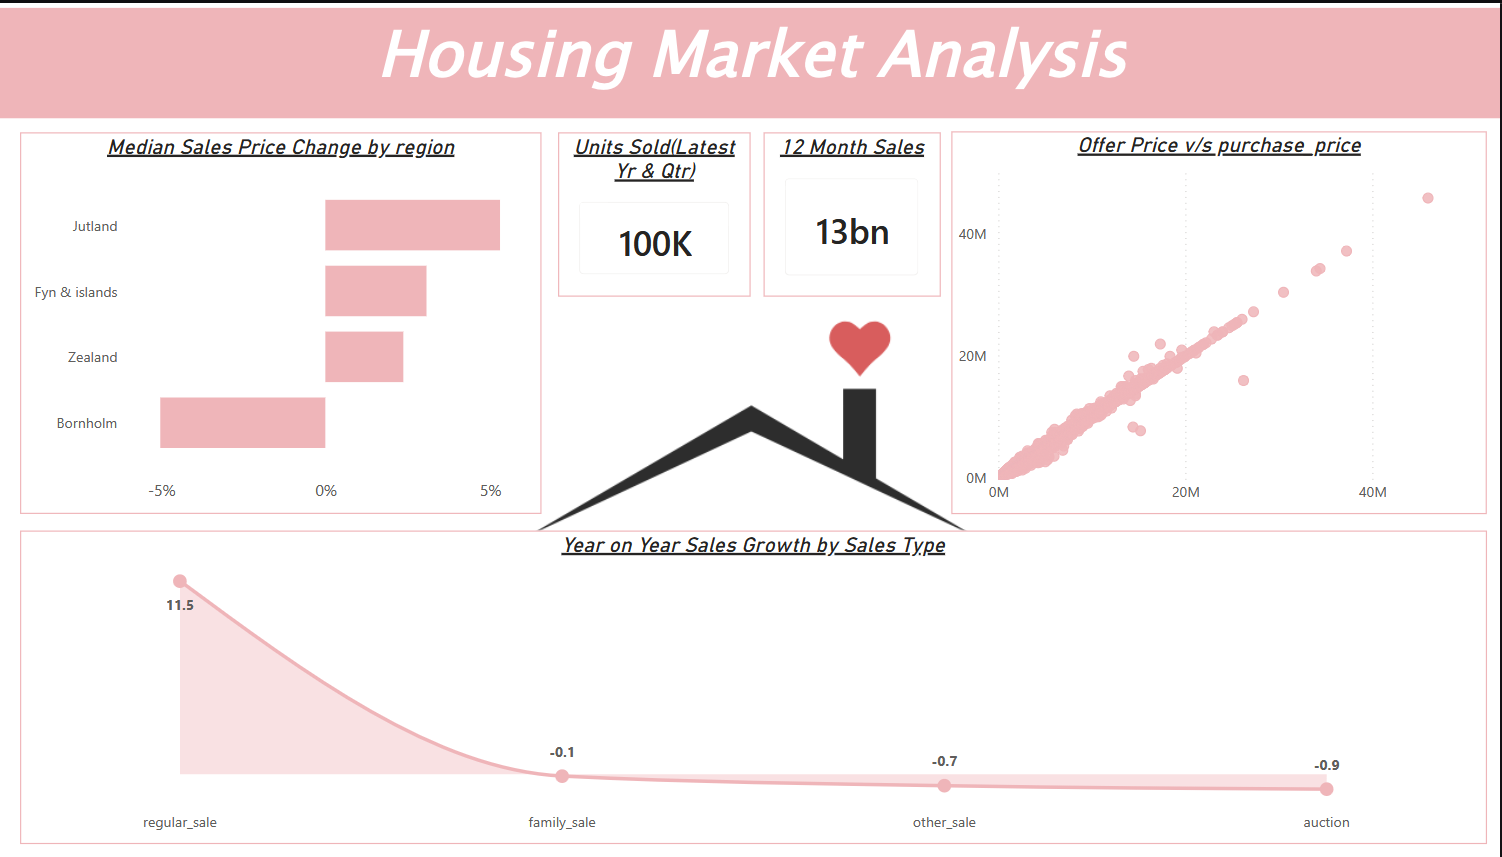

What the dashboard file says about the page in this screenshot:
{"tool":"powerbi","page":{"name":"House Market Overview","canvas":[1280,720],"ordinal":0},"visuals":[{"type":"shape","box":[0,0,1280.3,94.2],"z":0},{"type":"lineChart","title":"Year on Year Sales Growth by Sales Type","fields":{"Category":["Google Housing Data.sales_type"],"Y":["Google Housing Data.YOY_Sales_Growth"]},"box":[16.9,445.2,1248.7,266.6],"z":1000},{"type":"scatterChart","title":"Offer Price v/s purchase_price","fields":{"X":["Google Housing Data.Offer Price"],"Y":["Google Housing Data.purchase_price"]},"box":[809.5,105,456,325.7],"z":2000},{"type":"barChart","fields":{"Category":["Google Housing Data.region"],"Y":["Google Housing Data.Median Sales Price Change"]},"box":[16.9,106.2,444,324.5],"z":3000},{"type":"cardVisual","title":"Units Sold(Latest Yr & Qtr)","fields":{"Data":["Google Housing Data.Unit Sold in latest Year and Quarter"]},"box":[475.3,105,164.1,139.9],"z":4000},{"type":"cardVisual","title":"12 Month Sales","fields":{"Data":["Google Housing Data.Last 12 Months Sales"]},"box":[650.3,106.2,150.8,139.9],"z":5000}]}

Visuals, with their boxes in screenshot pixels (x1, y1, x2, y2), scaled from the page's 1280x720 canvas onto the 1502x857 screenshot:
shape: Rect(0, 0, 1501, 112)
"Year on Year Sales Growth by Sales Type" lineChart: Rect(20, 530, 1485, 847)
"Offer Price v/s purchase_price" scatterChart: Rect(950, 125, 1485, 513)
barChart - Google Housing Data.region x Google Housing Data.Median Sales Price Change: Rect(20, 126, 541, 513)
"Units Sold(Latest Yr & Qtr)" cardVisual: Rect(558, 125, 750, 291)
"12 Month Sales" cardVisual: Rect(763, 126, 940, 293)
